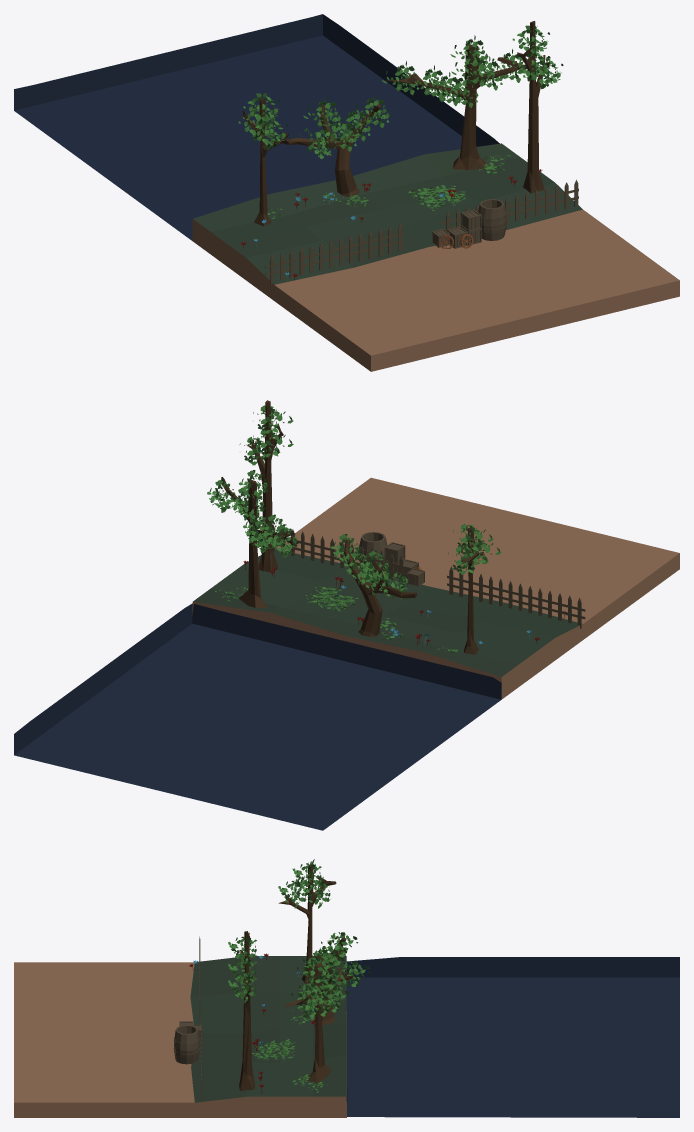
Rendered from CORREDOR DA BASE DOS CAÇADORES 1 100_ OFICIAL.fbx.
3 views of the same model, one above another, from view 1: azimuth 30°, elevation 25°; view 2: azimuth 150°, elevation 25°; view 3: azimuth 270°, elevation 25° (orthographic). The views are drawn at different scales.
Parts seen in each view (by area): view 1: Base.002, rio.004, tronco 3.005, tronco 5.001, cerca.001, tronco.002, cerca.006, barril.001, tronco 3.004, Cube.008, suporte cerca.002; view 2: rio.004, Base.002, tronco.002, tronco 5.001, tronco 3.005, cerca.001, cerca.006, suporte cerca.002, tronco 3.004; view 3: rio.004, Base.002, tronco 3.005, tronco 5.001, barril.001, tronco 3.004, A folha.031, A folha.010, A folha.043, A folha.001.
Part boxes in pixels (box(x1,y1,x2,y2)): Base.002: box(192, 143, 679, 371); rio.004: box(14, 14, 499, 240); tronco 3.005: box(384, 45, 538, 169); tronco 5.001: box(517, 21, 549, 193); cerca.001: box(270, 223, 402, 285); tronco.002: box(285, 103, 380, 197); cerca.006: box(446, 179, 578, 231); barril.001: box(478, 199, 507, 240); tronco 3.004: box(243, 97, 289, 226); Cube.008: box(447, 209, 481, 248); suporte cerca.002: box(265, 232, 404, 275); rio.004: box(14, 603, 501, 830); Base.002: box(192, 477, 679, 699); tronco.002: box(344, 538, 416, 636); tronco 5.001: box(246, 400, 283, 572); tronco 3.005: box(221, 477, 296, 607); cerca.001: box(449, 566, 581, 628); cerca.006: box(272, 524, 403, 582); suporte cerca.002: box(447, 575, 585, 619); tronco 3.004: box(461, 527, 483, 654); rio.004: box(346, 957, 679, 1117); Base.002: box(14, 956, 346, 1117); tronco 3.005: box(284, 962, 356, 1083); tronco 5.001: box(239, 931, 254, 1090); barril.001: box(173, 1025, 199, 1064); tronco 3.004: box(278, 864, 336, 983); A folha.031: box(321, 932, 358, 957); A folha.010: box(292, 859, 321, 891); A folha.043: box(292, 992, 328, 1017); A folha.001: box(228, 971, 256, 1003).
Size of the model in its own units: 1040 by 586 by 2002.
32 materials, 32 textured.
